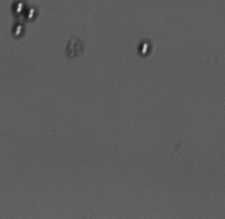Dead Cell: (66, 37, 83, 60)
Living Cell: (136, 38, 153, 58), (25, 5, 39, 22), (10, 1, 27, 15), (10, 22, 25, 37)
